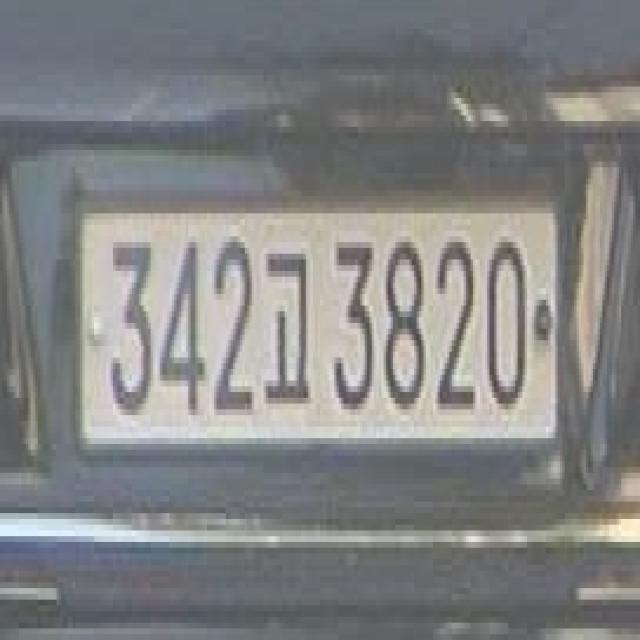plat: (72, 187, 565, 454)
